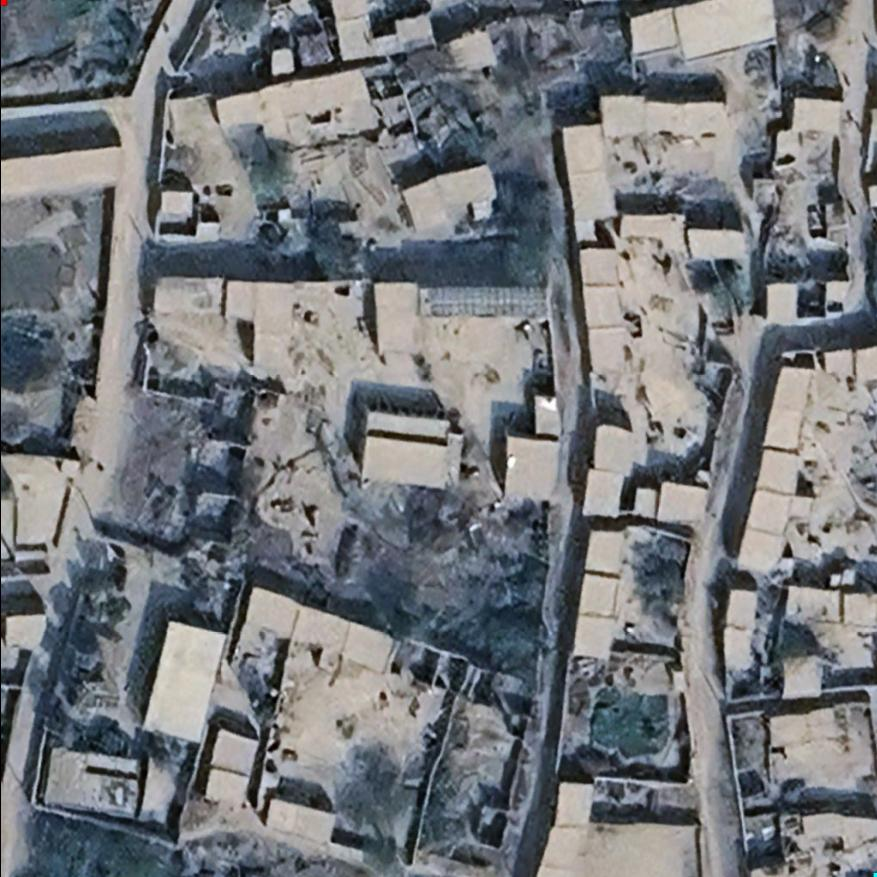Solarpanel: (420, 280, 553, 320)
